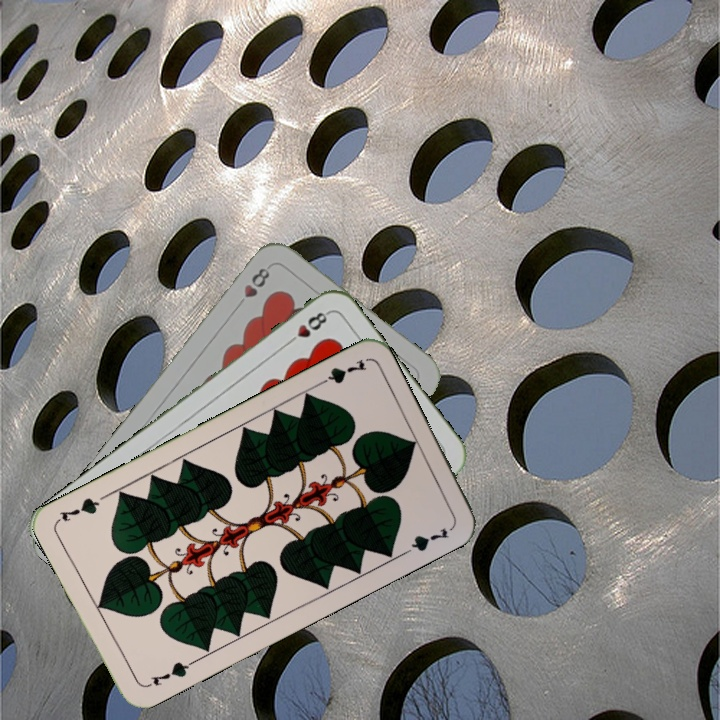G7: (312, 355, 369, 390), (142, 656, 197, 691)
H8: (281, 308, 332, 349), (232, 263, 273, 311)
